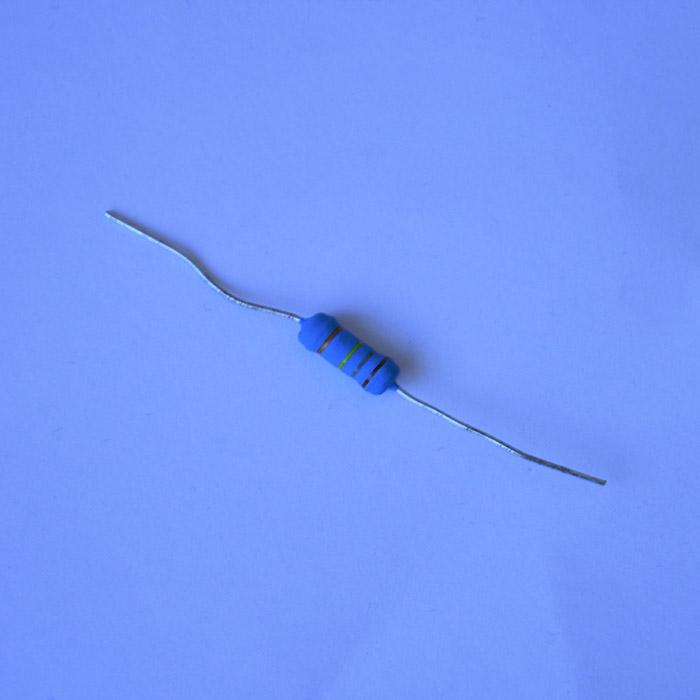resistor: (296, 311, 401, 394)
